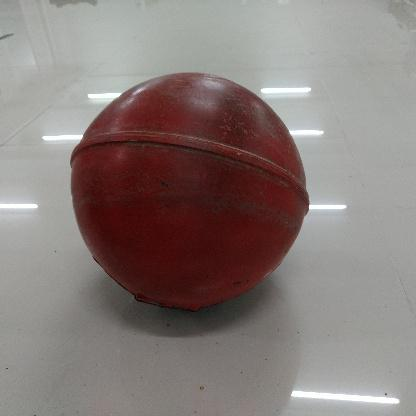red_buoy: (70, 74, 309, 316)
